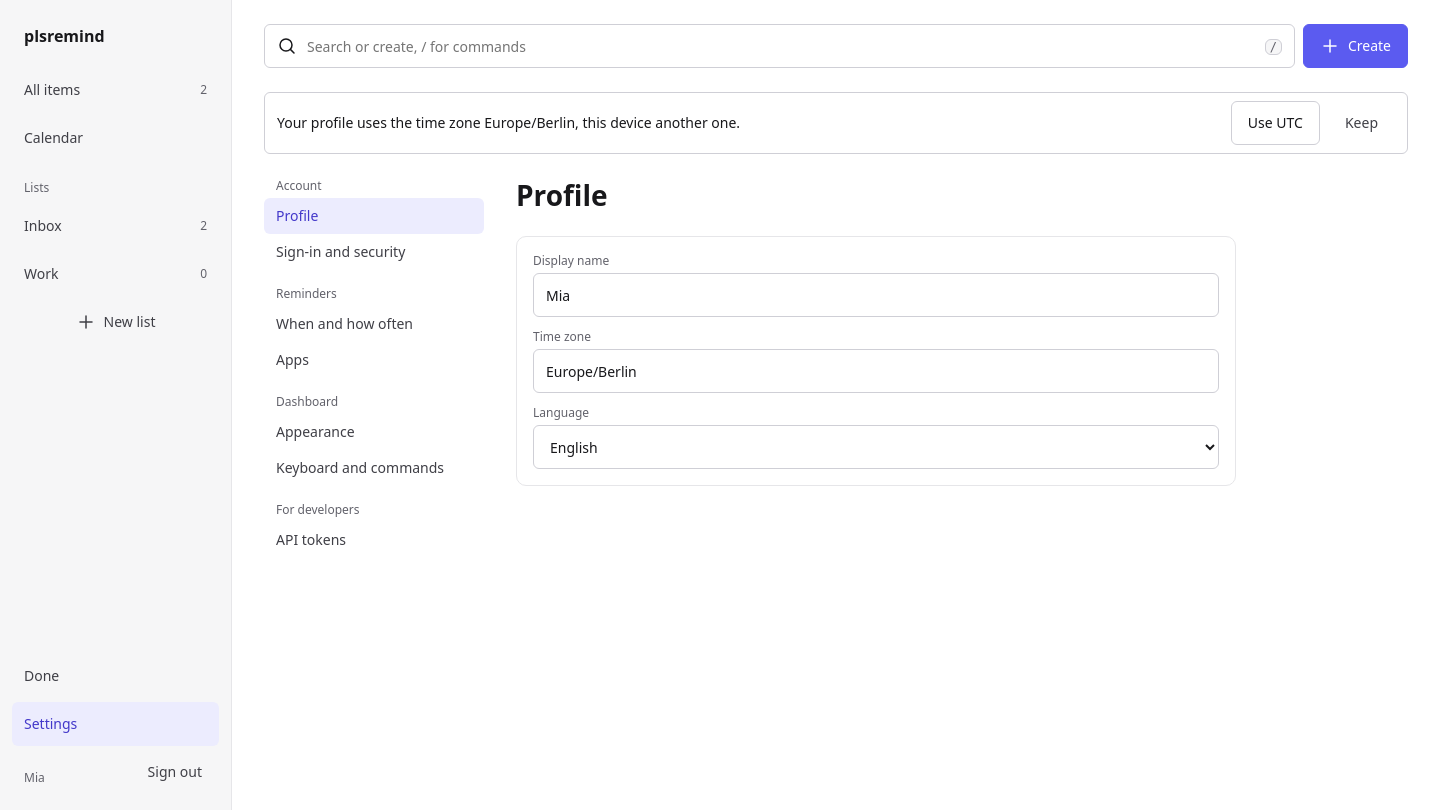
Test case: name, zone and language are saved to the profile
The image size is (1440, 810).
Expected: the navigation bar named "Settings" is shown, [264,178,484,558]
Replace the text in the field labelled "Display name" with "Mia M." at {"x": 876, "y": 295}, box [533,273,1219,317]
Press Tab
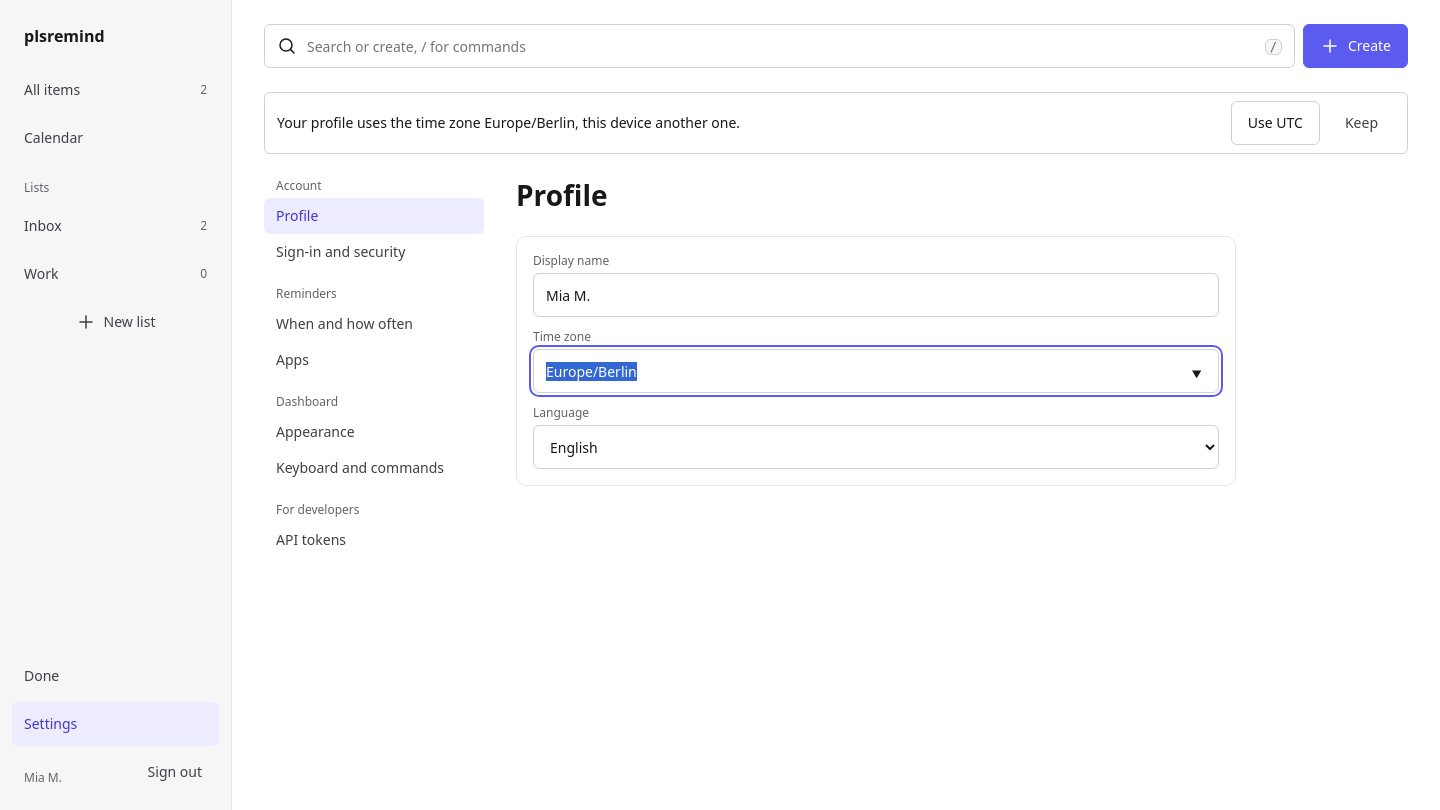
Replace the text in the field labelled "Time zone" with "Mars/Olympus" at {"x": 876, "y": 371}, box [533,349,1219,393]
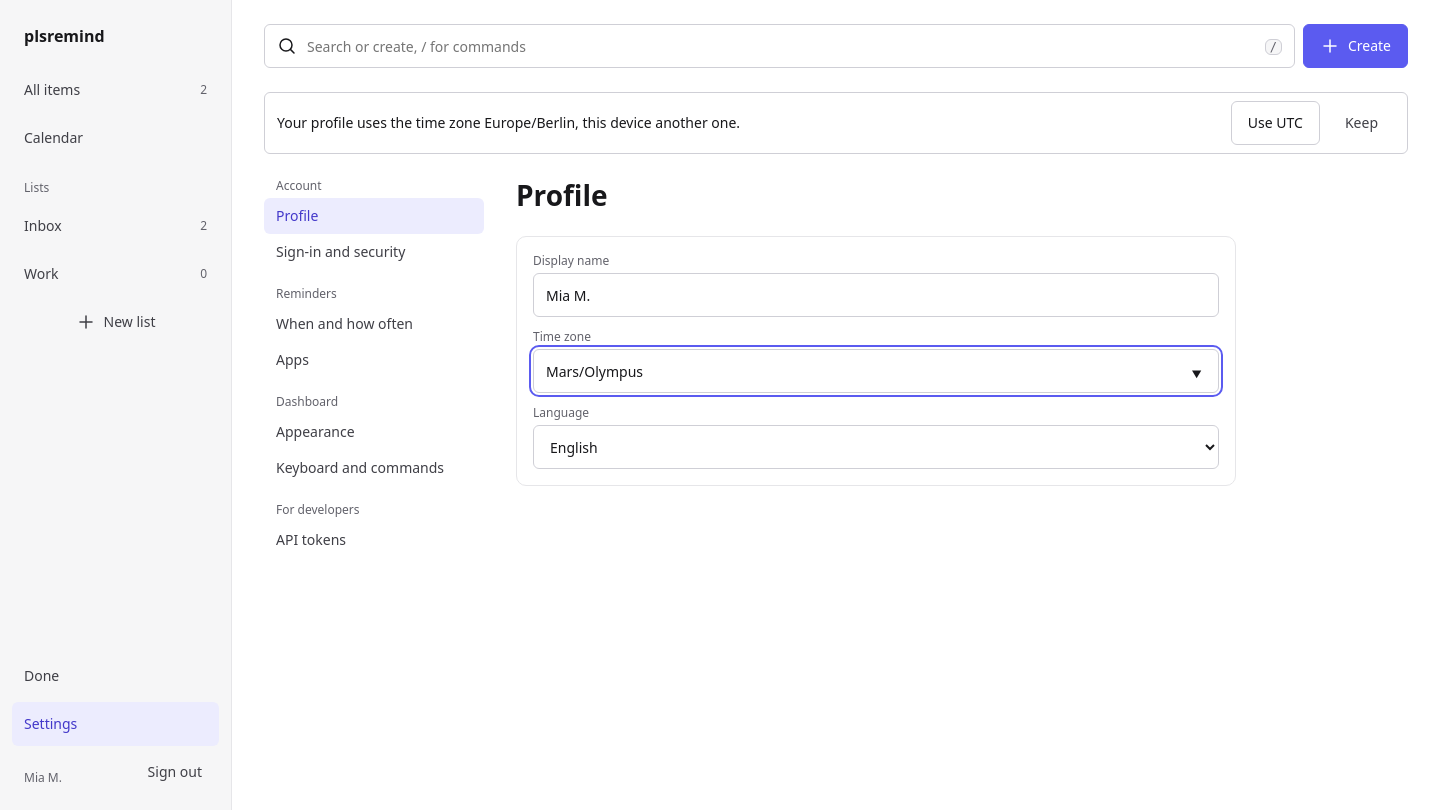
Press Tab
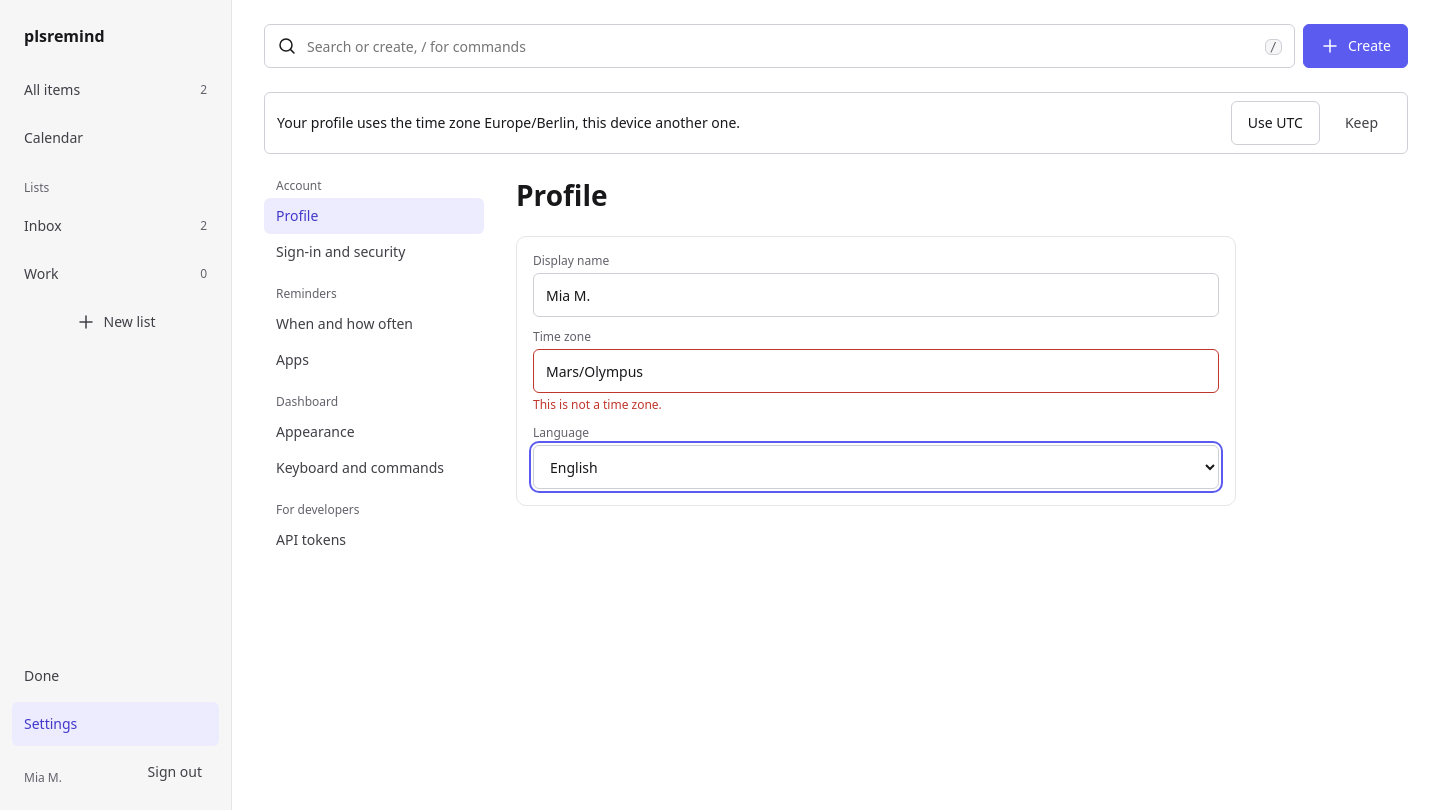
Expected: the text "This is not a time zone." is shown, [533,396,662,413]
Replace the text in the field labelled "Time zone" with "America/New_York" at {"x": 876, "y": 371}, box [533,349,1219,393]
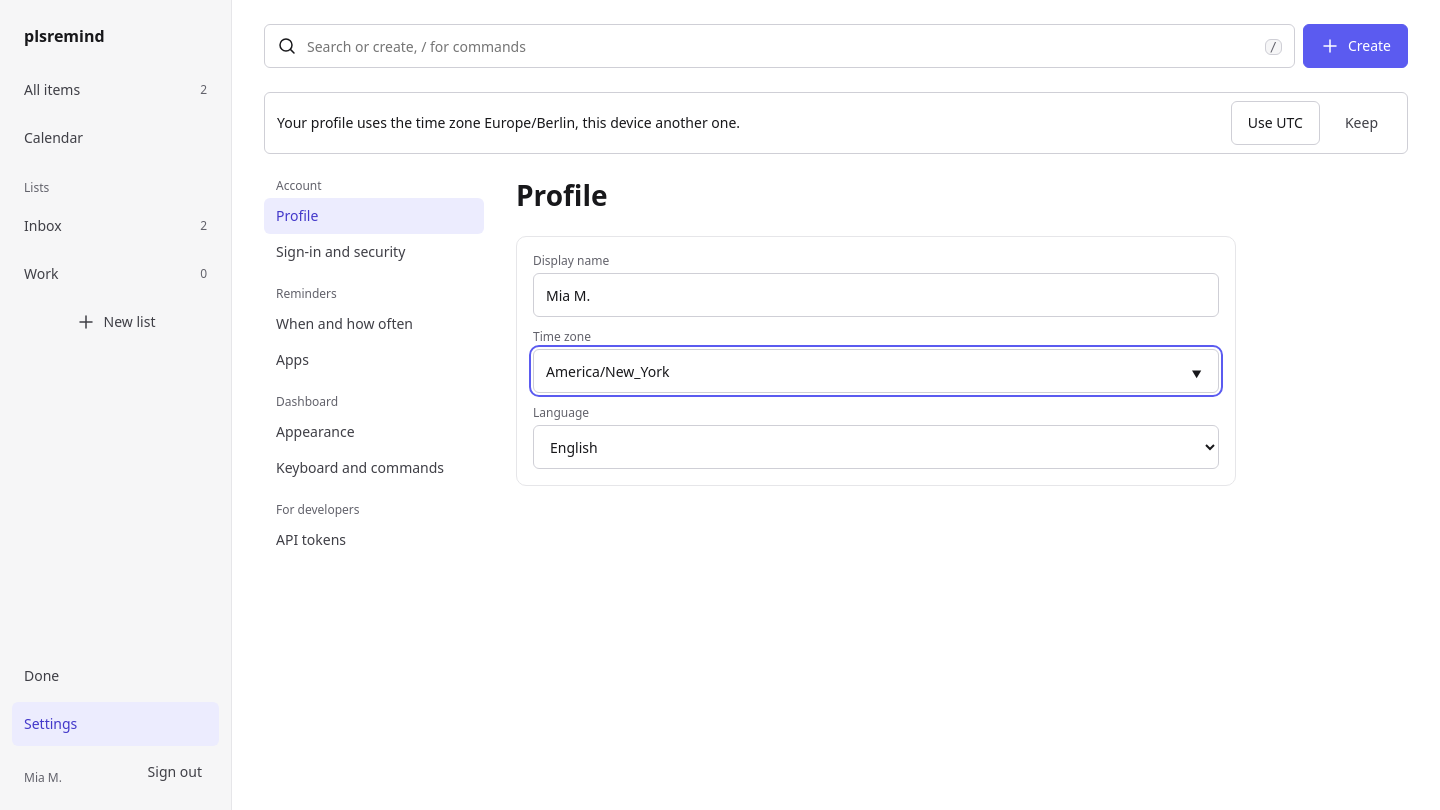
Press Tab
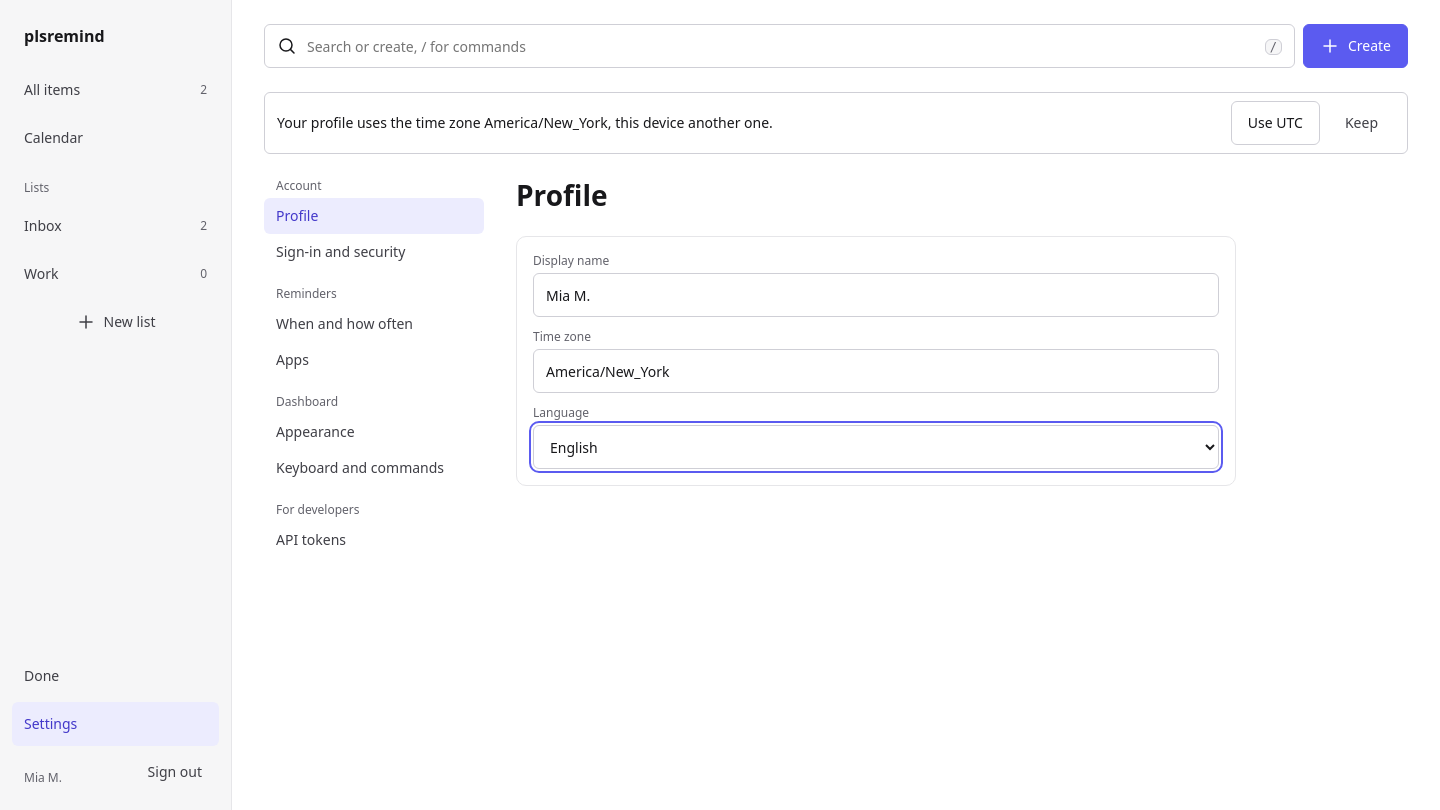
Select "Deutsch" in the dropdown labelled "Language" at {"x": 876, "y": 447}, box [533,425,1219,469]
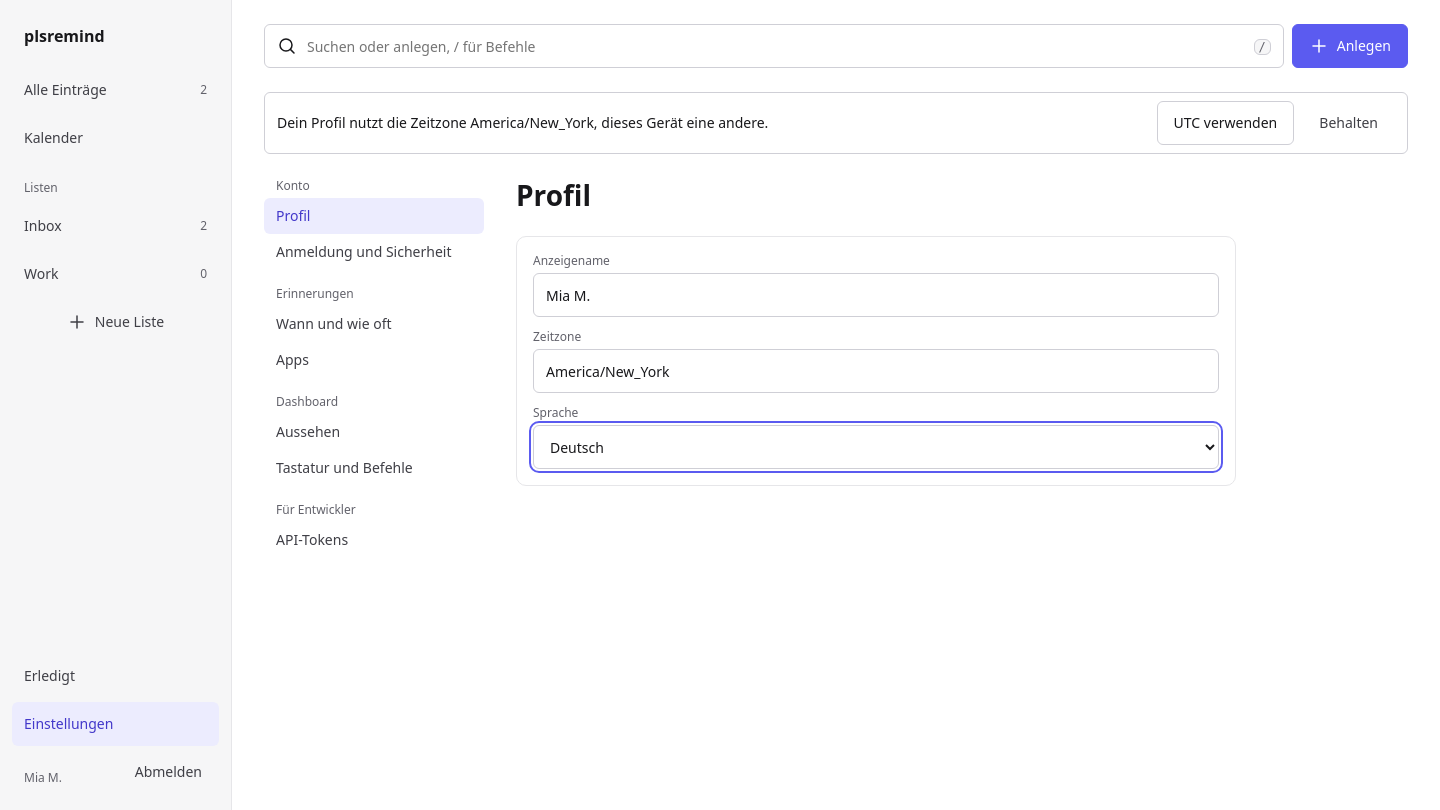
Expected: the navigation bar named "Einstellungen" is shown, [264,178,484,558]
